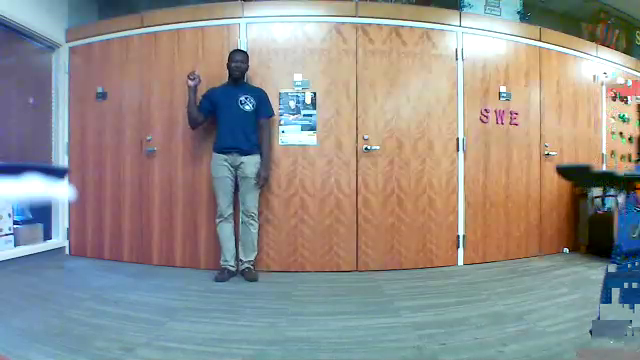up: (182, 61, 205, 89)
